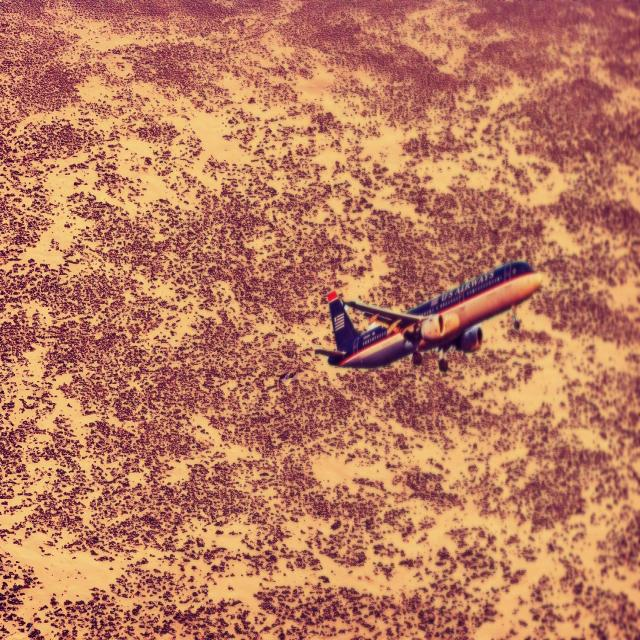airplane: (314, 258, 542, 372)
